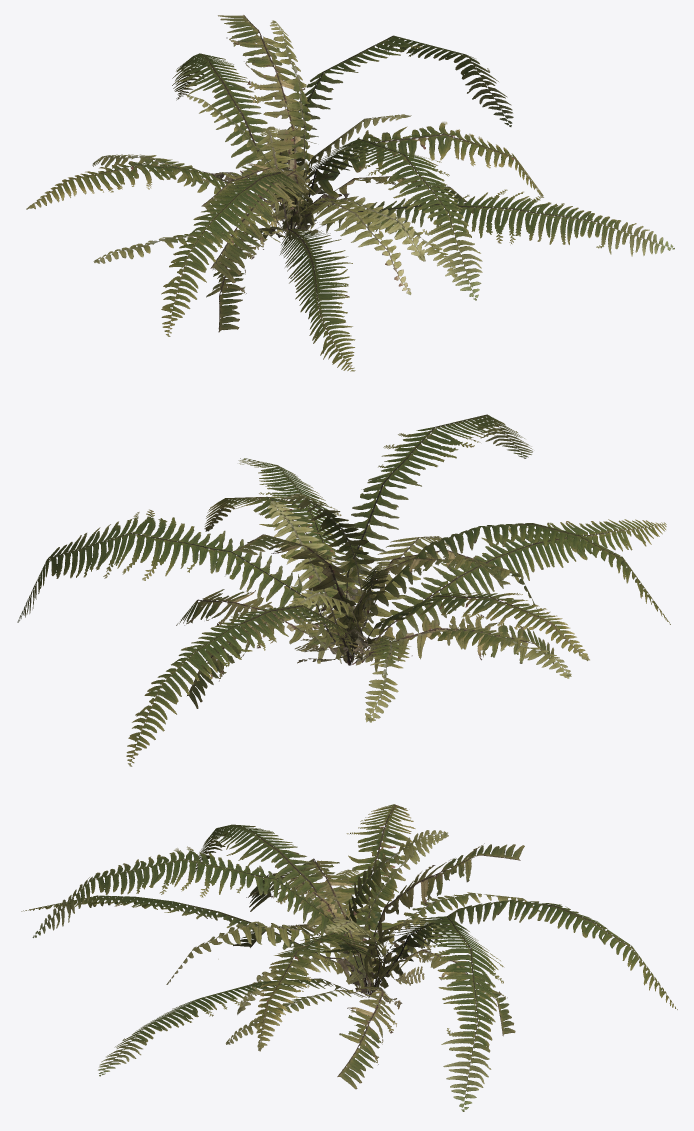
Rendered from SM_Plant_Forest_10.fbx.
3 views of the same model, one above another, from view 1: azimuth 30°, elevation 25°; view 2: azimuth 150°, elevation 25°; view 3: azimuth 270°, elevation 25° (orthographic). The views are drawn at different scales.
Parts seen in each view (by area): view 1: SM_Plant_Forest_10; view 2: SM_Plant_Forest_10; view 3: SM_Plant_Forest_10.
Boxes of the visible parts, x1,y1,x2,y2 form: SM_Plant_Forest_10: (26, 15, 674, 371); SM_Plant_Forest_10: (17, 414, 670, 766); SM_Plant_Forest_10: (21, 804, 677, 1111).
Size of the model in its own units: 141 by 160 by 50.78.
1 material, 1 textured.
